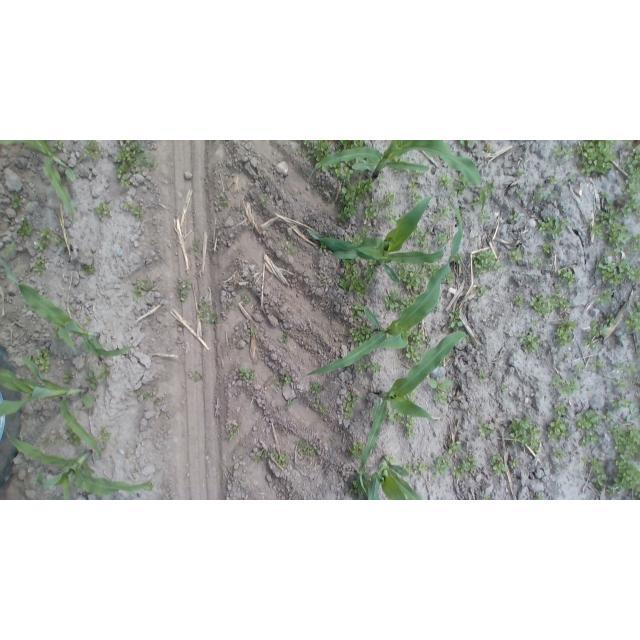Maize: (307, 199, 466, 379), (355, 332, 469, 495), (2, 255, 141, 358), (305, 197, 457, 284), (310, 141, 487, 215), (0, 356, 104, 456), (6, 432, 154, 500), (1, 141, 79, 220), (367, 452, 425, 500)
Weeds: (116, 141, 157, 187), (592, 192, 624, 242), (620, 141, 640, 220), (608, 456, 640, 500), (339, 179, 373, 220), (578, 140, 615, 174), (339, 259, 371, 296), (510, 413, 541, 451), (608, 424, 638, 456), (597, 260, 635, 285), (474, 251, 505, 280), (531, 294, 569, 314), (539, 216, 570, 238), (197, 296, 219, 325), (589, 457, 609, 488), (408, 329, 428, 359), (399, 265, 423, 290), (547, 418, 570, 442), (555, 319, 576, 345), (306, 141, 330, 163), (276, 235, 301, 256), (576, 410, 602, 430), (578, 430, 605, 449), (430, 206, 453, 228), (37, 435, 67, 451), (431, 380, 451, 403), (186, 367, 209, 387), (364, 260, 381, 287), (610, 226, 630, 248), (387, 294, 414, 310), (364, 200, 385, 220), (588, 318, 609, 338), (331, 163, 353, 182), (624, 398, 640, 423), (33, 351, 52, 372), (521, 332, 540, 352), (529, 183, 546, 205), (506, 246, 526, 263), (490, 455, 507, 475), (626, 306, 639, 332), (177, 279, 192, 301), (560, 267, 577, 286), (84, 141, 101, 160), (97, 362, 113, 382), (352, 326, 372, 342), (336, 141, 365, 152), (186, 238, 201, 259), (460, 454, 477, 472), (98, 425, 115, 443), (432, 456, 448, 475), (413, 228, 429, 247), (253, 449, 280, 460), (550, 444, 567, 461), (297, 440, 315, 456), (18, 221, 34, 239), (244, 328, 265, 341), (134, 282, 150, 299), (561, 379, 579, 394), (387, 410, 401, 429), (346, 394, 357, 418), (94, 203, 111, 218), (555, 146, 574, 159), (314, 401, 327, 420), (351, 478, 365, 495), (86, 371, 99, 389), (405, 417, 416, 438), (627, 364, 639, 383), (448, 312, 462, 328), (402, 169, 424, 179), (599, 289, 614, 303), (34, 257, 47, 273), (226, 298, 239, 313), (590, 356, 602, 372), (33, 242, 50, 253), (351, 305, 364, 319), (479, 423, 492, 437), (276, 329, 289, 343), (167, 321, 185, 331), (276, 454, 291, 466), (309, 181, 320, 197), (426, 264, 439, 277), (138, 389, 151, 402), (473, 285, 487, 297), (439, 174, 453, 186), (383, 192, 395, 206), (219, 196, 231, 210), (61, 369, 71, 385), (448, 442, 461, 454), (240, 368, 254, 379), (11, 194, 22, 208), (609, 397, 623, 408), (84, 265, 98, 276), (455, 177, 464, 194), (39, 228, 51, 240), (53, 141, 66, 152), (372, 362, 383, 375), (407, 180, 418, 193), (351, 442, 362, 455), (68, 432, 79, 445), (437, 232, 448, 245), (550, 374, 560, 388), (459, 140, 476, 148), (358, 362, 370, 373), (602, 409, 613, 421), (555, 404, 566, 416), (414, 461, 427, 471), (510, 211, 523, 221), (227, 428, 237, 441), (134, 205, 143, 219), (481, 209, 492, 220), (317, 273, 328, 284), (483, 145, 494, 156), (617, 379, 628, 390), (605, 315, 616, 326), (83, 313, 93, 325), (361, 225, 371, 237), (477, 370, 487, 382), (634, 344, 640, 364), (585, 338, 597, 348), (569, 172, 578, 185), (513, 296, 523, 307), (350, 234, 361, 244), (54, 234, 63, 246), (452, 466, 461, 478), (542, 242, 551, 254), (510, 457, 519, 469), (321, 193, 331, 203), (549, 175, 559, 185), (311, 382, 321, 392), (486, 182, 495, 193), (549, 189, 560, 198), (403, 462, 412, 473), (485, 316, 498, 323), (453, 253, 462, 263), (281, 374, 291, 383), (446, 274, 455, 284), (259, 198, 269, 207), (515, 188, 525, 197), (386, 454, 395, 464), (533, 257, 542, 267), (575, 362, 585, 371), (515, 170, 526, 178), (123, 202, 132, 211), (389, 213, 398, 222), (412, 193, 421, 202), (318, 245, 326, 255), (531, 319, 539, 329), (285, 397, 293, 407), (614, 362, 624, 370), (6, 243, 14, 253), (154, 396, 163, 404), (501, 384, 509, 393), (561, 353, 569, 362), (534, 492, 542, 501), (479, 494, 491, 500), (243, 295, 250, 305), (411, 391, 418, 400), (378, 174, 385, 182), (561, 180, 567, 188), (563, 463, 569, 471), (581, 455, 586, 463), (477, 411, 484, 416)
